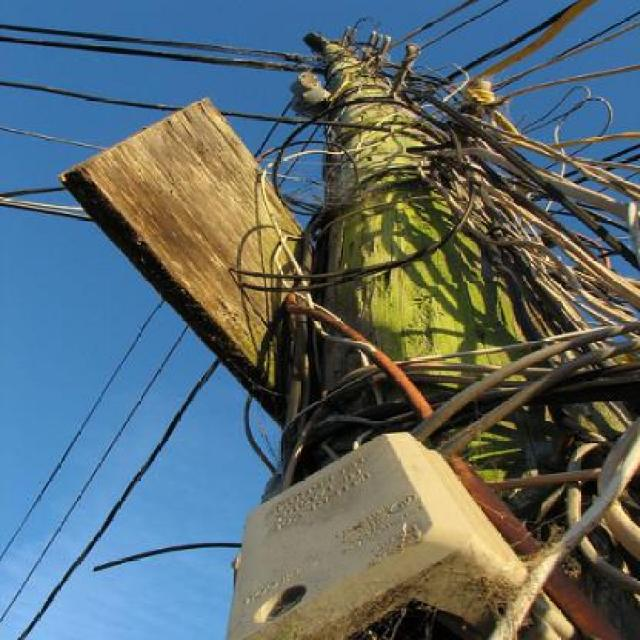pole: (260, 24, 554, 640)
